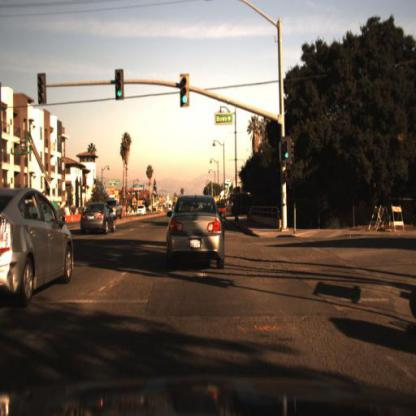car: (2, 188, 84, 319), (154, 184, 227, 288), (70, 199, 122, 242), (73, 198, 118, 241), (111, 196, 129, 224), (136, 204, 150, 219)
trafficLight: (112, 66, 126, 104), (35, 70, 48, 107), (179, 73, 190, 109)
trafficLight-Green: (278, 131, 297, 172), (115, 68, 126, 103), (283, 139, 292, 164)
